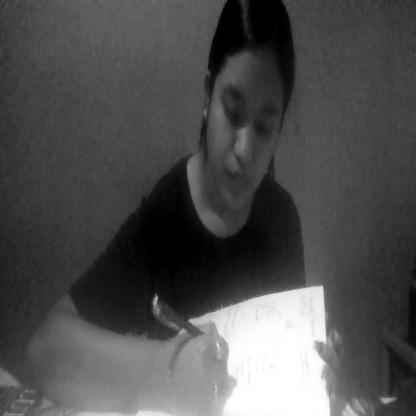Normal: (190, 10, 310, 241)
